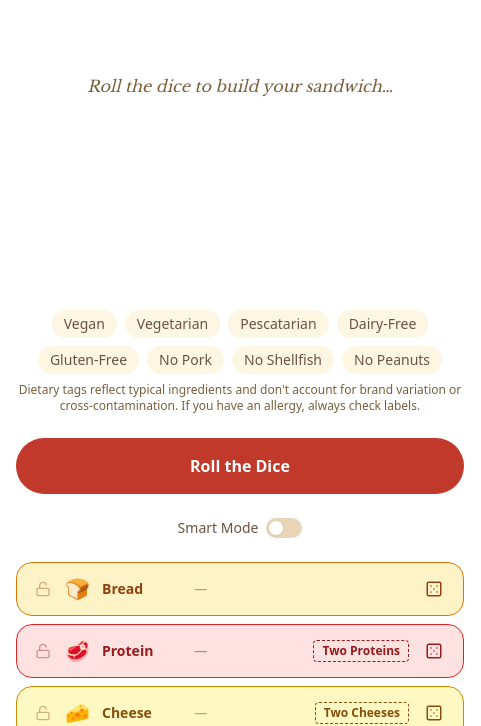
Test: HomePage › after rolling › hides the empty state prompt after a full roll
Click the button "Roll the Dice": (240, 466) [16, 438, 464, 494]
Wait 4500 ms
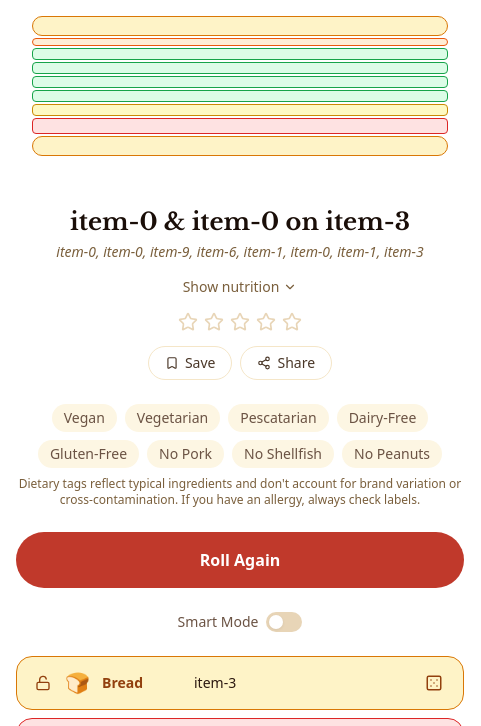
Now the text "Roll the dice to build your sandwich" is gone
